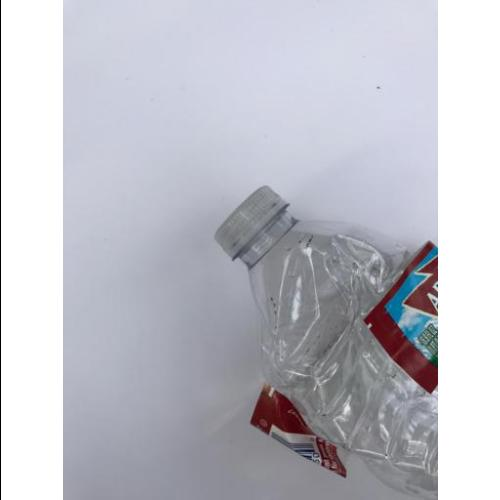plastic: (214, 184, 438, 500)
